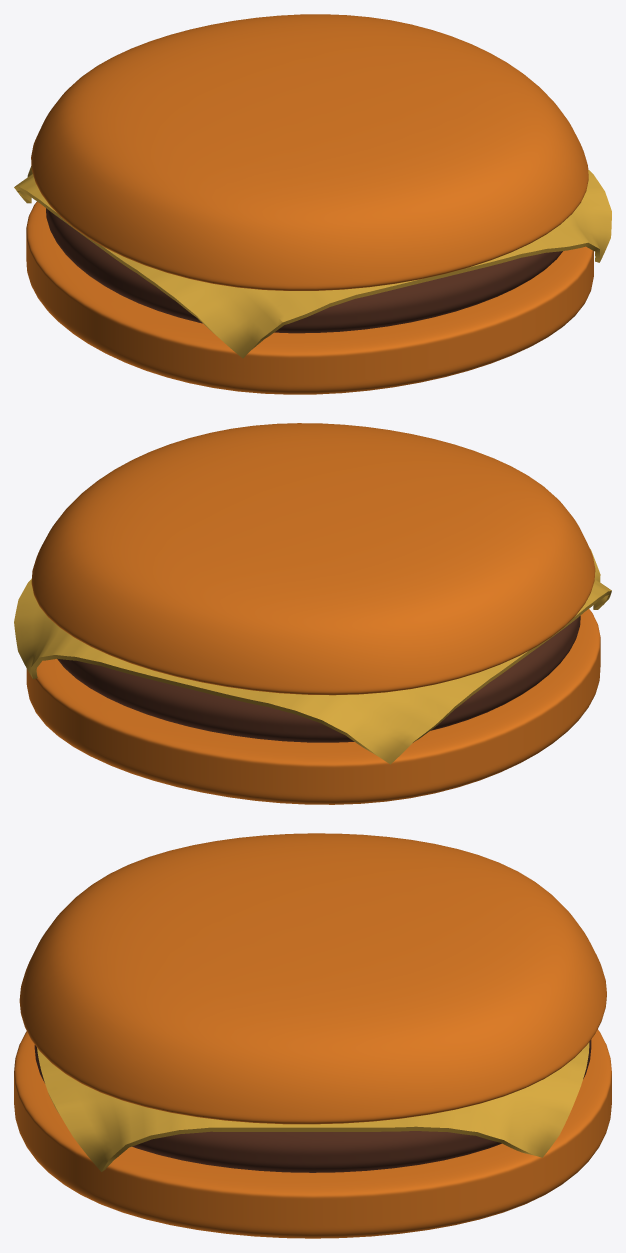
The model's file is hamburger.glb.
The picture shows the model from 3 angles, top to bottom: view 1: azimuth 30°, elevation 25°; view 2: azimuth 150°, elevation 25°; view 3: azimuth 270°, elevation 25°; orthographic projection. The views are drawn at different scales.
Parts seen in each view (by area): view 1: Cube.002, Cube, Plane, Cube.001; view 2: Cube.002, Cube, Plane, Cube.001; view 3: Cube.002, Cube, Plane, Cube.001.
Boxes of the visible parts, x1,y1,x2,y2 form: Cube.002: [31, 14, 588, 290]; Cube: [26, 201, 593, 394]; Plane: [14, 165, 611, 358]; Cube.001: [46, 208, 562, 333]; Cube.002: [31, 423, 595, 695]; Cube: [26, 609, 600, 804]; Plane: [14, 549, 611, 764]; Cube.001: [57, 616, 580, 742]; Cube.002: [19, 833, 606, 1124]; Cube: [14, 1029, 611, 1238]; Plane: [37, 1042, 589, 1171]; Cube.001: [34, 1039, 591, 1172].
Bounding box in the file's own units: 9.06 × 3.58 × 9.06.
